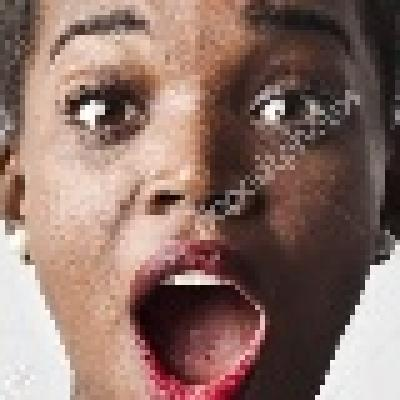surprise: (32, 7, 370, 400)
